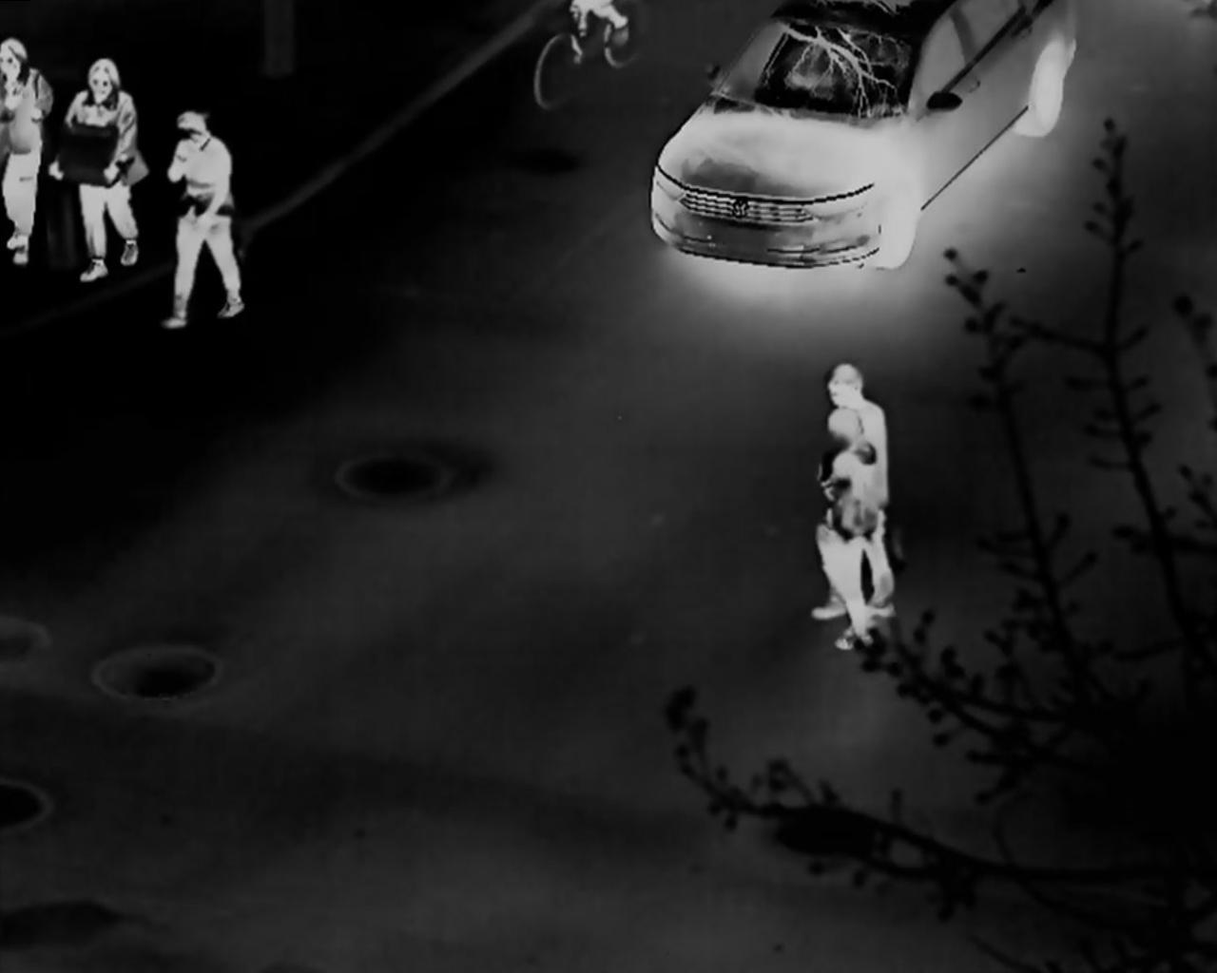person: (810, 357, 897, 622), (47, 56, 147, 281), (159, 110, 246, 332), (813, 406, 886, 652), (2, 34, 56, 264)
